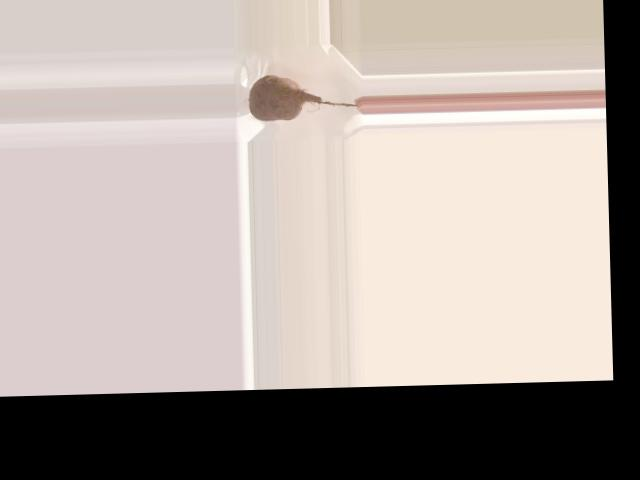beet: (248, 72, 358, 121)
